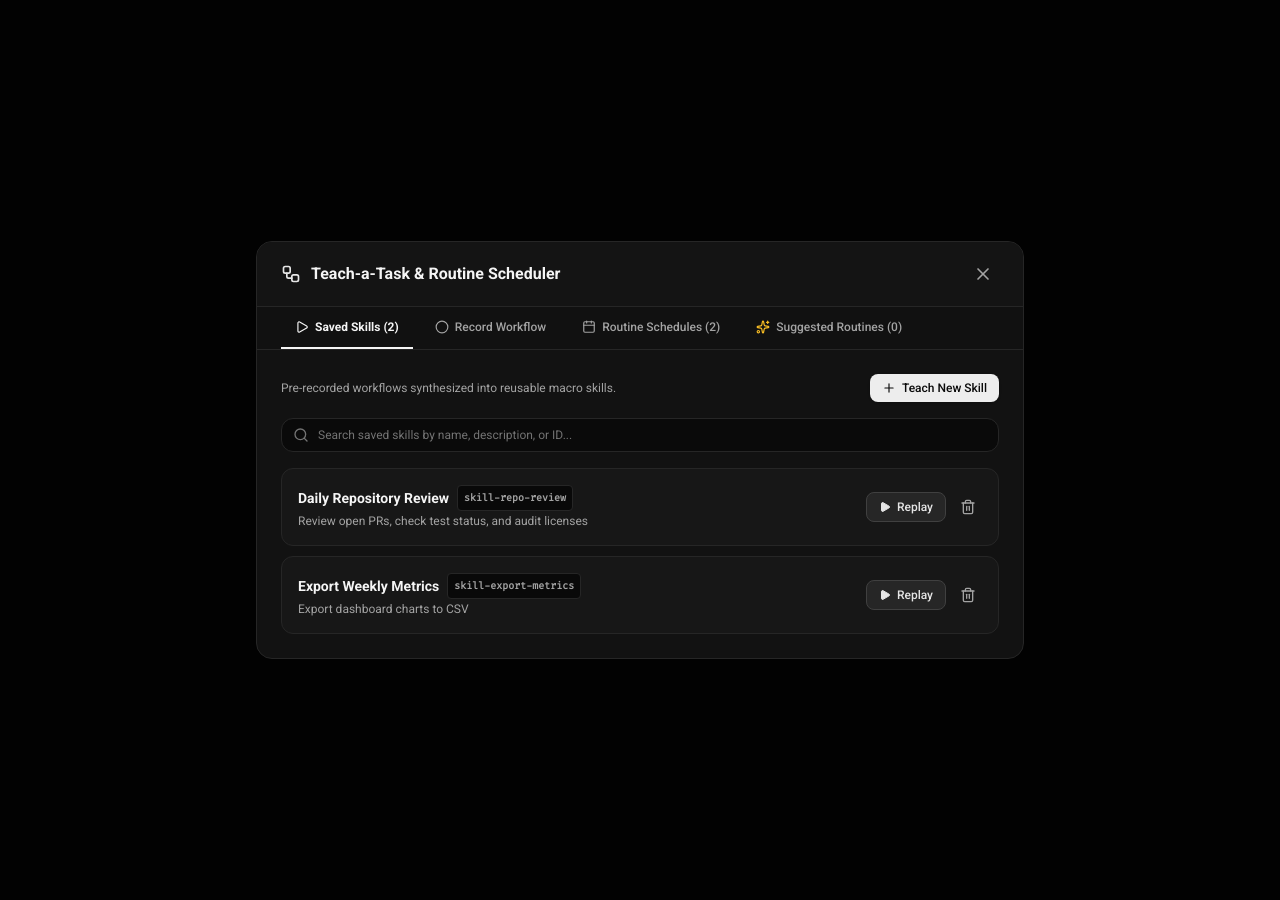
TeachTaskModal - Task Deletion & Lifecycle › canceling confirmation closes dialog and preserves the task without invoking backend deletion
Expected: the text "Daily Repository Review" is shown, [298, 488, 449, 508]
Click the button named "Delete task" in the row of "skill-repo-review".
click(968, 507)  # box [954, 493, 982, 521]
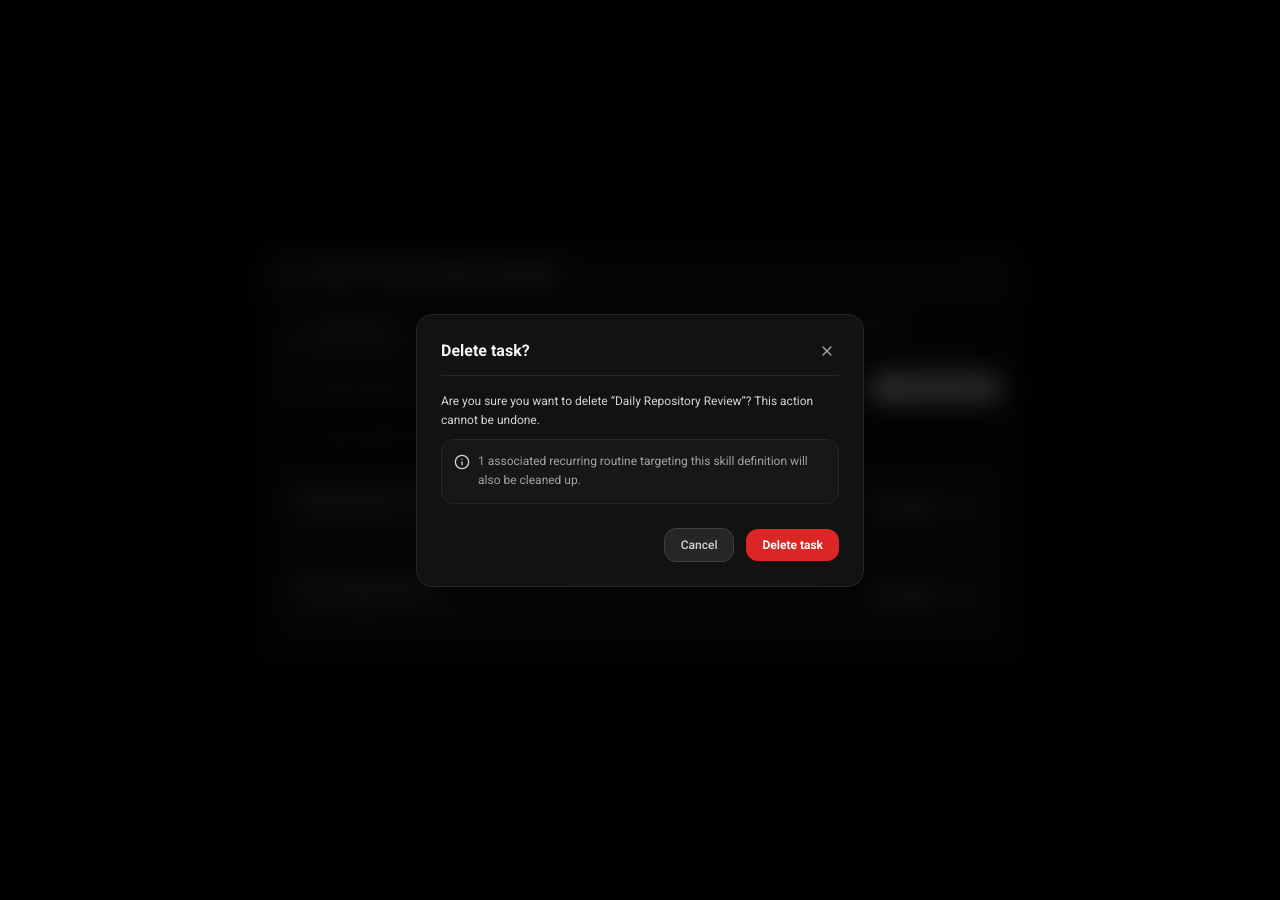
Expected: the heading "Delete task?" is shown, [441, 338, 530, 362]
Note: Click Cancel in dialog
Click the button "Cancel".
click(699, 544)  # box [664, 528, 734, 562]
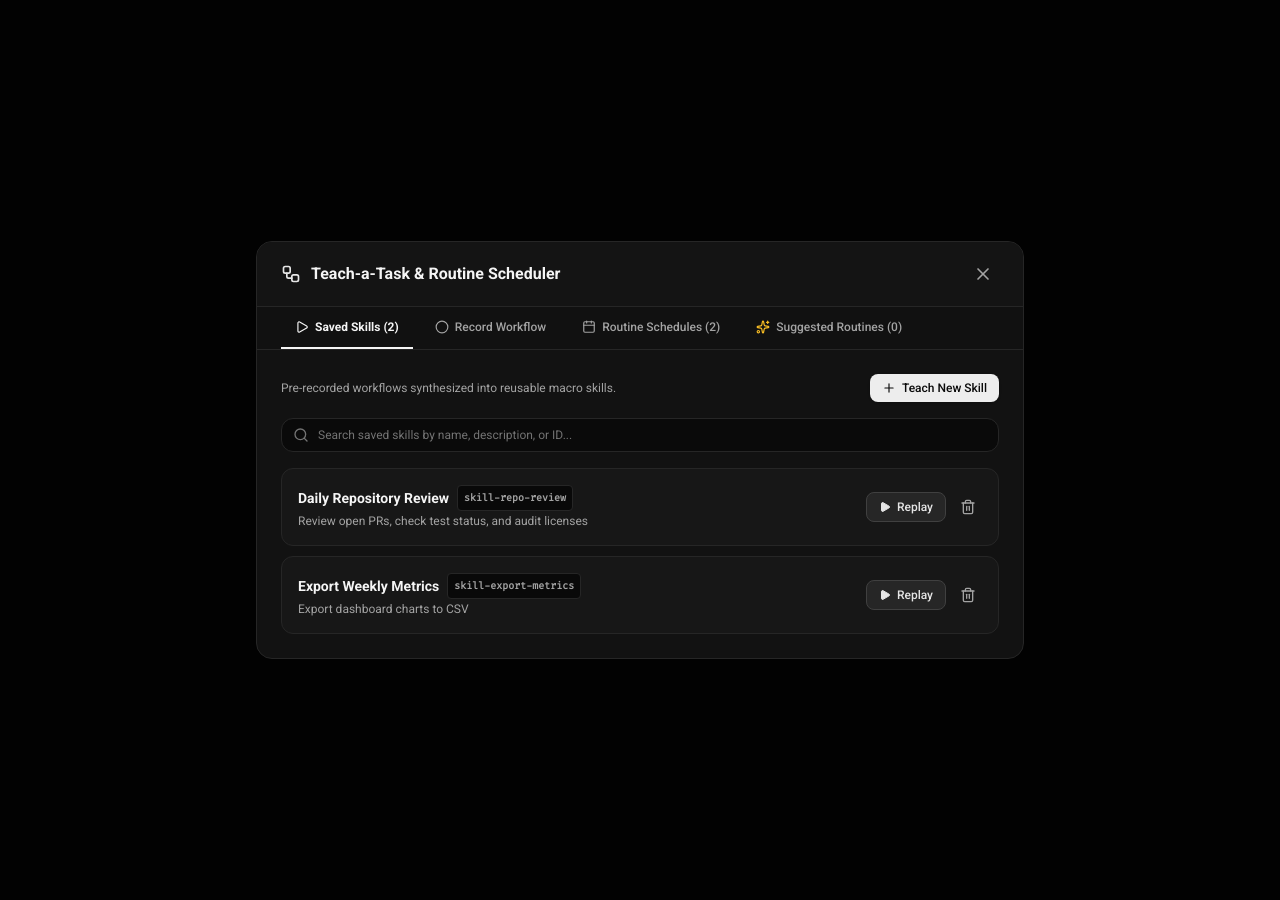
Expected: the text "Daily Repository Review" is shown, [298, 488, 449, 508]
Expected: the heading "Delete task?" is gone
